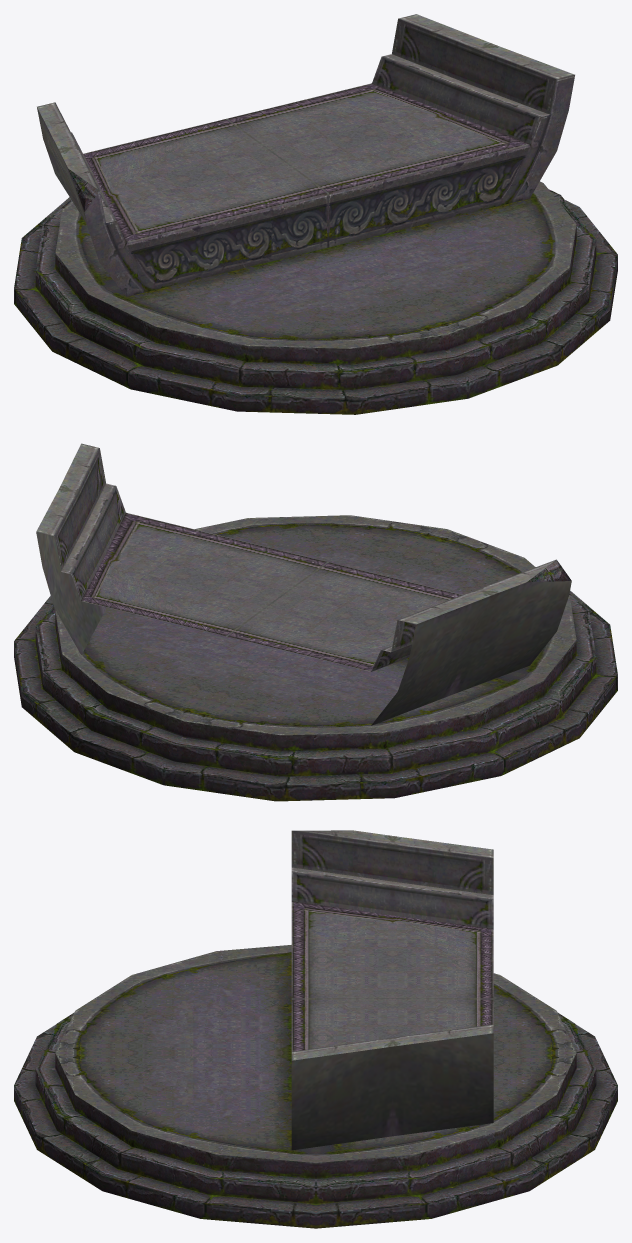
File: yw_langhuanfudi_shichuang01.FBX
3 renders of one model, top to bottom at view 1: azimuth 30°, elevation 25°; view 2: azimuth 150°, elevation 25°; view 3: azimuth 270°, elevation 25°, orthographic.
Parts seen in each view (by area): view 1: yw_langhuanfudi_shichuang01; view 2: yw_langhuanfudi_shichuang01; view 3: yw_langhuanfudi_shichuang01.
Part boxes in pixels (x1,y1,x2,y2): yw_langhuanfudi_shichuang01: (14,14,617,414); yw_langhuanfudi_shichuang01: (14,443,617,801); yw_langhuanfudi_shichuang01: (14,830,617,1228).
Bounding box in the file's own units: 1036 × 302 × 1036.
